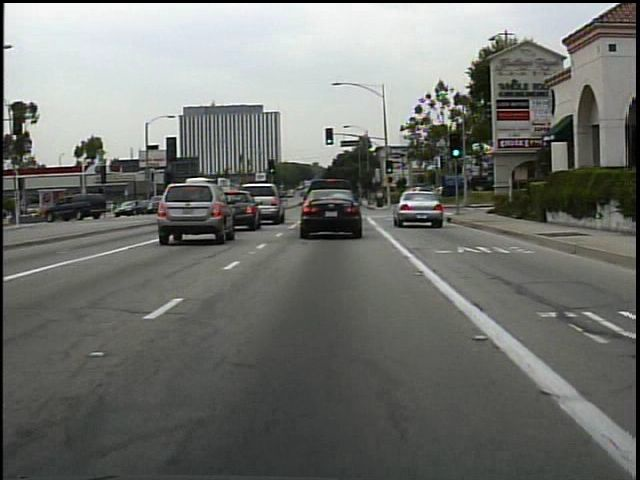person: (373, 187, 388, 210)
